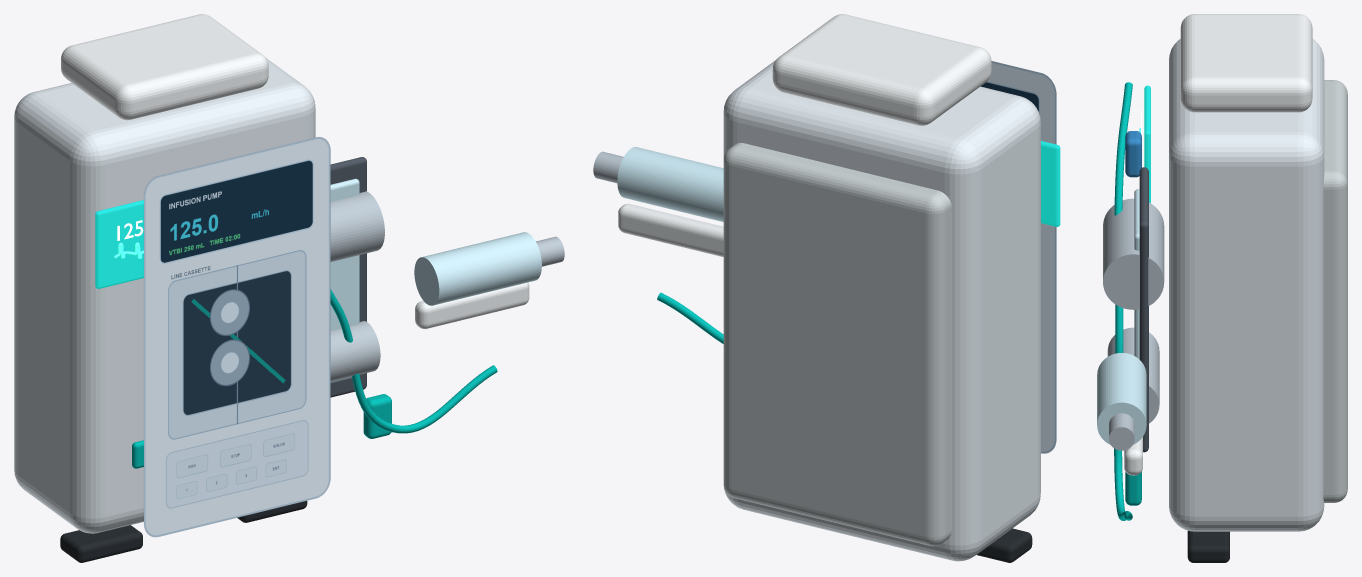
File: infusion-pump.glb
3 renders of one model, left to right at view 1: azimuth 30°, elevation 25°; view 2: azimuth 150°, elevation 25°; view 3: azimuth 270°, elevation 25°, orthographic. The views are drawn at different scales.
Parts seen in each view (by area): view 1: photo-real infusion pump face, pump upright body, top carry handle, syringe barrel, flow screen, upper roller, syringe cradle, transparent pump door, lower roller, left rubber foot, infusion line through pump, cassette dark well (+1 smaller); view 2: rear battery housing, pump upright body, top carry handle, photo-real infusion pump face, syringe barrel, syringe cradle, flow screen, left rubber foot, syringe plunger, infusion line through pump; view 3: pump upright body, top carry handle, rear battery housing, upper roller, syringe barrel, infusion line through pump, cassette dark well, right rubber foot, lower roller, syringe plunger, line inlet clamp, transparent pump door (+3 smaller).
Part boxes in pixels (left/top/right/bottom): photo-real infusion pump face: left=144, top=137, right=330, bottom=537; pump upright body: left=14, top=58, right=315, bottom=533; top carry handle: left=61, top=14, right=268, bottom=120; syringe barrel: left=414, top=232, right=541, bottom=305; flow screen: left=95, top=200, right=143, bottom=288; upper roller: left=330, top=191, right=384, bottom=261; syringe cradle: left=415, top=282, right=529, bottom=328; transparent pump door: left=330, top=178, right=359, bottom=382; lower roller: left=330, top=321, right=380, bottom=381; left rubber foot: left=60, top=525, right=142, bottom=562; infusion line through pump: left=330, top=289, right=497, bottom=433; cassette dark well: left=330, top=157, right=366, bottom=397; rear battery housing: left=723, top=142, right=951, bottom=546; pump upright body: left=723, top=60, right=1040, bottom=561; top carry handle: left=772, top=14, right=991, bottom=125; photo-real infusion pump face: left=980, top=61, right=1056, bottom=453; syringe barrel: left=617, top=147, right=723, bottom=221; syringe cradle: left=618, top=203, right=723, bottom=256; flow screen: left=1041, top=141, right=1060, bottom=226; left rubber foot: left=977, top=528, right=1032, bottom=562; syringe plunger: left=593, top=151, right=623, bottom=183; infusion line through pump: left=657, top=292, right=723, bottom=343; pump upright body: left=1169, top=39, right=1324, bottom=531; top carry handle: left=1180, top=14, right=1312, bottom=112; rear battery housing: left=1323, top=80, right=1347, bottom=502; upper roller: left=1103, top=198, right=1164, bottom=309; syringe barrel: left=1097, top=353, right=1146, bottom=444; infusion line through pump: left=1114, top=82, right=1132, bottom=520; cassette dark well: left=1139, top=167, right=1148, bottom=452; right rubber foot: left=1187, top=530, right=1229, bottom=562; lower roller: left=1107, top=327, right=1159, bottom=423; syringe plunger: left=1109, top=413, right=1134, bottom=450; line inlet clamp: left=1125, top=131, right=1141, bottom=177; transparent pump door: left=1134, top=189, right=1139, bottom=359.
Size of the model in its own units: 2.2 by 2.17 by 1.06.
Materials: 14 (1 with a texture image).
